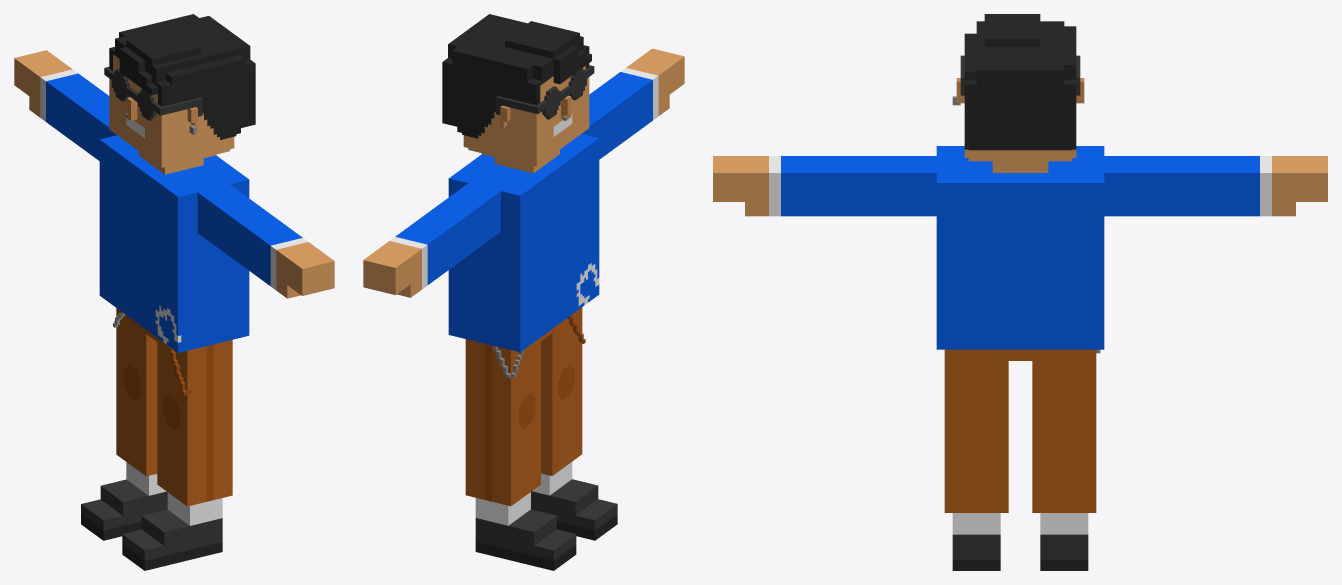
The model's file is male chars-4.obj.
3 views of the same model, side by side, from view 1: azimuth 30°, elevation 25°; view 2: azimuth 150°, elevation 25°; view 3: azimuth 270°, elevation 25° (orthographic). The views are drawn at different scales.
Bounding box in the file's own units: 3.6 × 14.6 × 15.4.
Materials: 1 (1 with a texture image).
